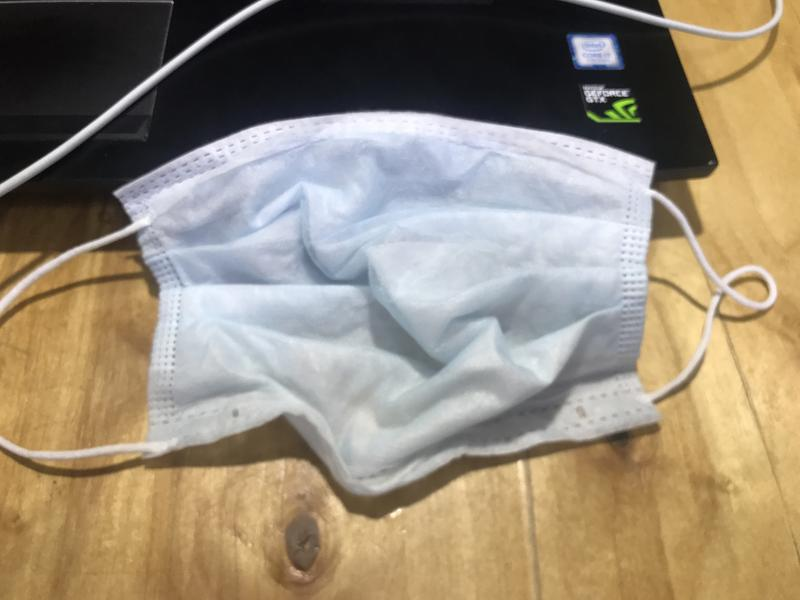medical_mask: (1, 109, 777, 498)
